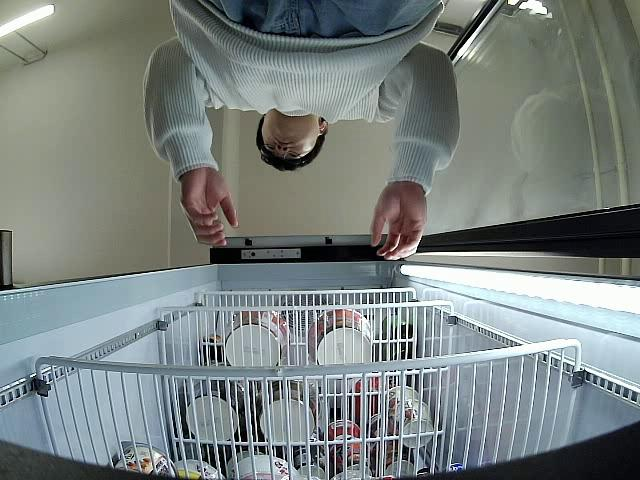00_hand: (171, 174, 239, 251), (369, 182, 426, 260)
